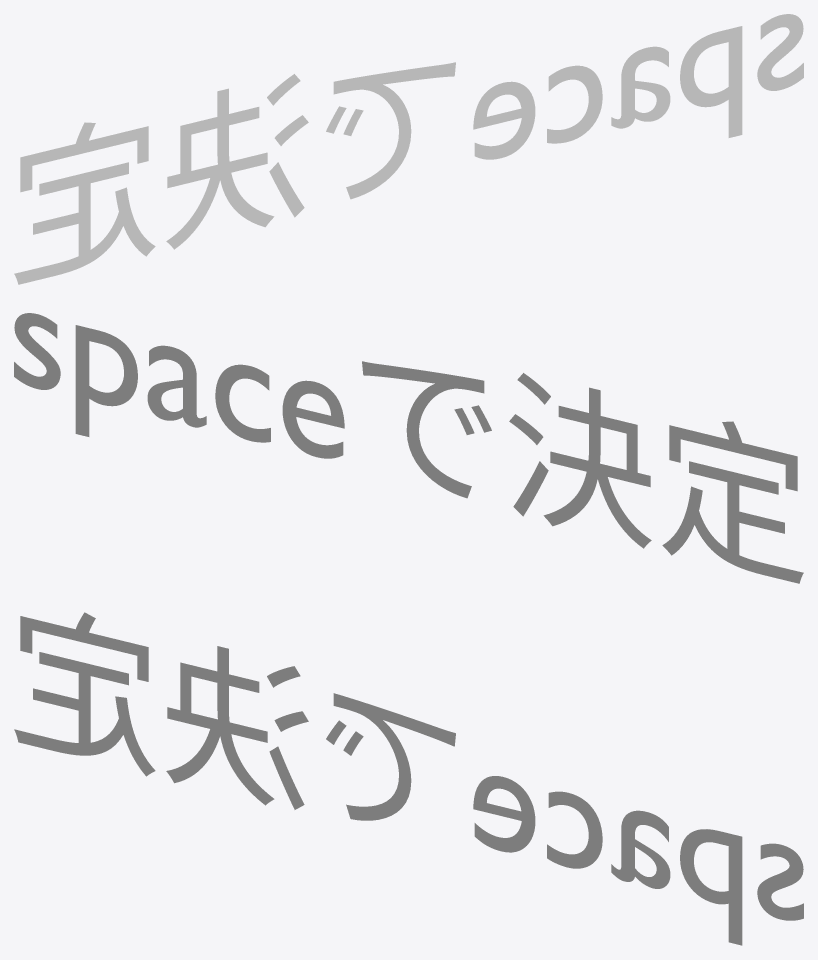
The model's file is space.obj.
3 renders of one model, top to bottom at view 1: azimuth 30°, elevation 25°; view 2: azimuth 150°, elevation 25°; view 3: azimuth 330°, elevation 25°, orthographic.
Visible parts, largest first — view 1: テキスト; view 2: テキスト; view 3: テキスト.
Boxes of the visible parts, left/top/right/bottom form: テキスト: left=14, top=14, right=803, bottom=284; テキスト: left=14, top=313, right=803, bottom=583; テキスト: left=14, top=612, right=803, bottom=945.
Bounding box in the file's own units: 5.15 × 1.08 × 0.
1 material, 1 textured.
